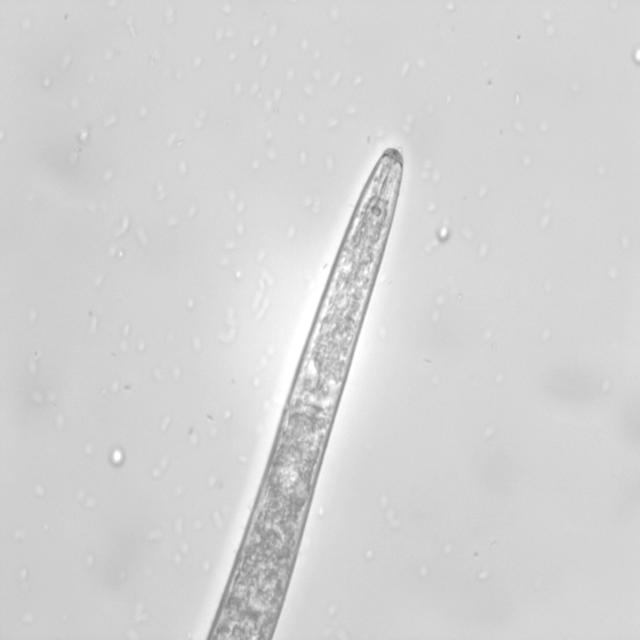Pratylenchus: (188, 135, 419, 640)
